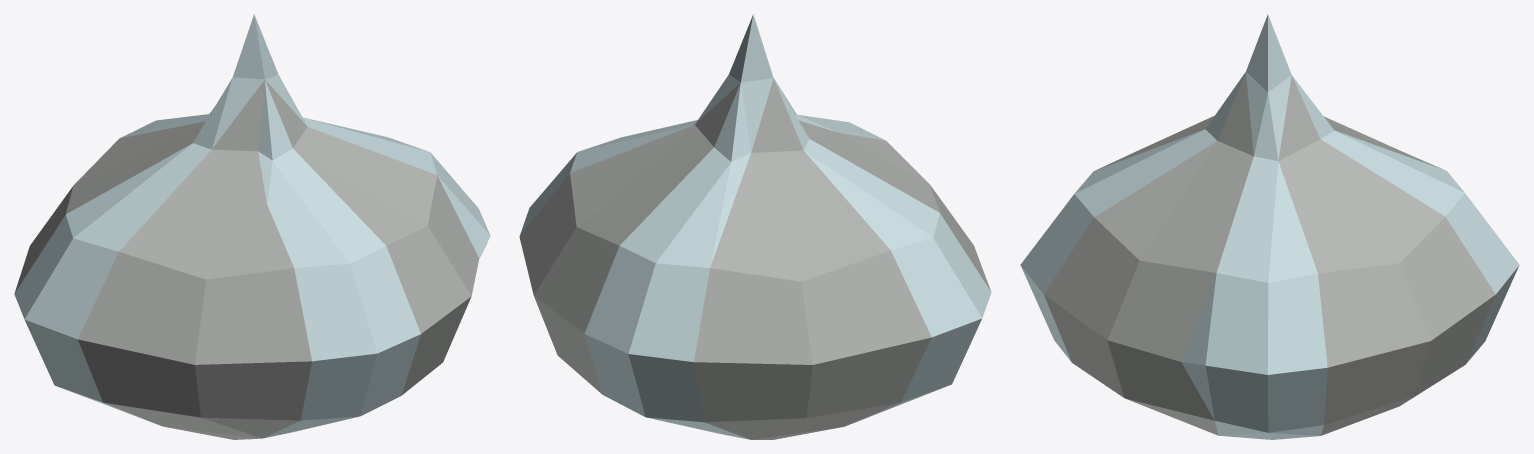
Rendered from Garlic.fbx.
3 views of the same model, side by side, from view 1: azimuth 30°, elevation 25°; view 2: azimuth 150°, elevation 25°; view 3: azimuth 270°, elevation 25° (orthographic).
Parts seen in each view (by area): view 1: Garlic; view 2: Garlic; view 3: Garlic.
Part boxes in pixels (x1,y1,x2,y2): Garlic: (14,14,490,439); Garlic: (519,14,991,439); Garlic: (1020,14,1519,439).
Bounding box in the file's own units: 4.43 × 3.68 × 4.19.
